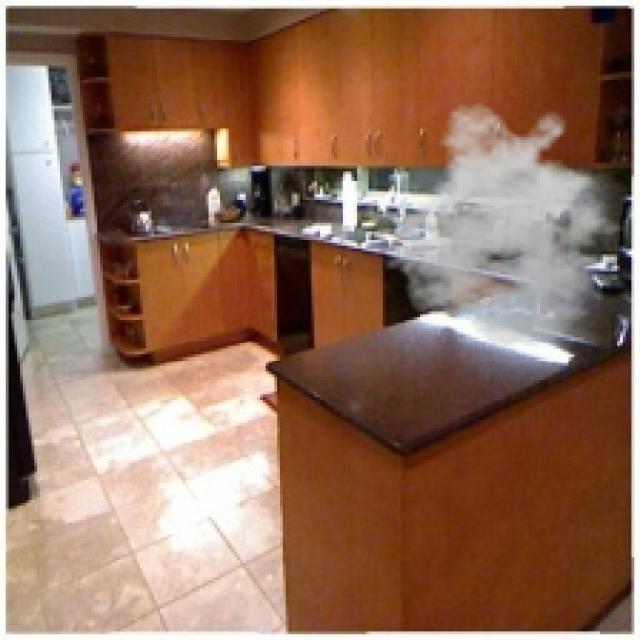Smoke: (382, 100, 638, 349)
